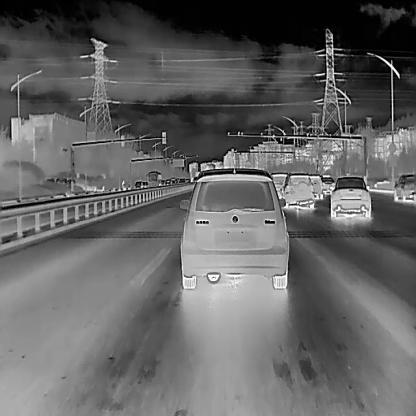car: (179, 167, 289, 289), (328, 176, 371, 218), (282, 172, 315, 207), (393, 173, 416, 202), (269, 172, 291, 198), (308, 174, 323, 199), (319, 174, 335, 195), (146, 169, 161, 187), (133, 180, 143, 188), (178, 177, 186, 185), (165, 178, 173, 185), (170, 176, 178, 183), (142, 181, 146, 189), (185, 177, 190, 183), (162, 179, 165, 185)
